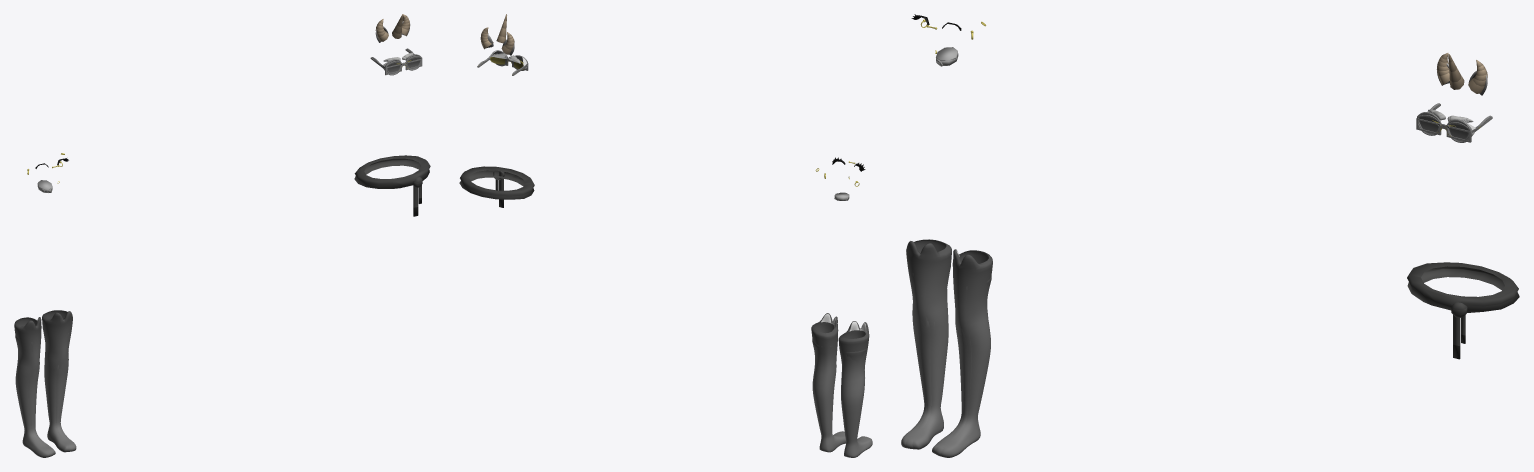
File: Acessories.fbx
3 renders of one model, left to right at view 1: azimuth 30°, elevation 25°; view 2: azimuth 150°, elevation 25°; view 3: azimuth 330°, elevation 25°, orthographic. The views are drawn at different scales.
Parts seen in each view (by area): view 1: Cat_Socks, Fight_belt, Medium_ Socks, Small_socks; view 2: Cat_Socks, Fight_belt; view 3: Cat_Socks, Fight_belt, Medium_ Socks, Small_socks, Devil_Horns, Square_glasses.
Boxes of the visible parts, box(x1,y1,x2,y2) form: Cat_Socks: box(14, 310, 76, 457); Fight_belt: box(354, 155, 430, 216); Medium_ Socks: box(15, 328, 72, 456); Small_socks: box(28, 365, 65, 449); Cat_Socks: box(811, 313, 872, 457); Fight_belt: box(459, 166, 534, 207); Cat_Socks: box(901, 239, 992, 457); Fight_belt: box(1407, 262, 1519, 359); Medium_ Socks: box(906, 265, 991, 456); Small_socks: box(917, 321, 971, 448); Devil_Horns: box(1437, 53, 1487, 93); Square_glasses: box(1416, 104, 1492, 142).
Size of the model in its own units: 217 by 177 by 29.44.
